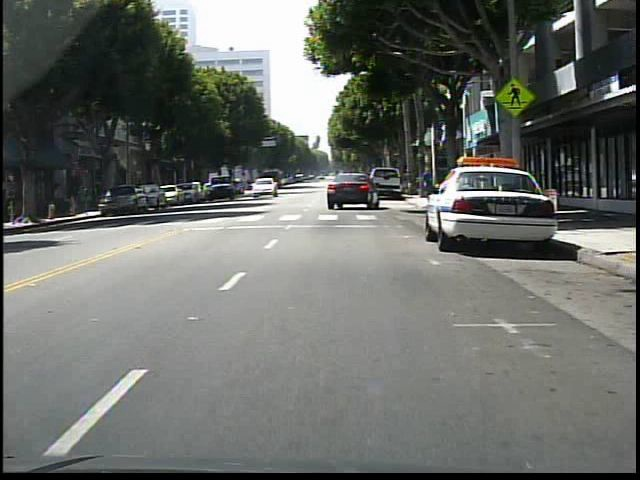person: (421, 165, 442, 206)
